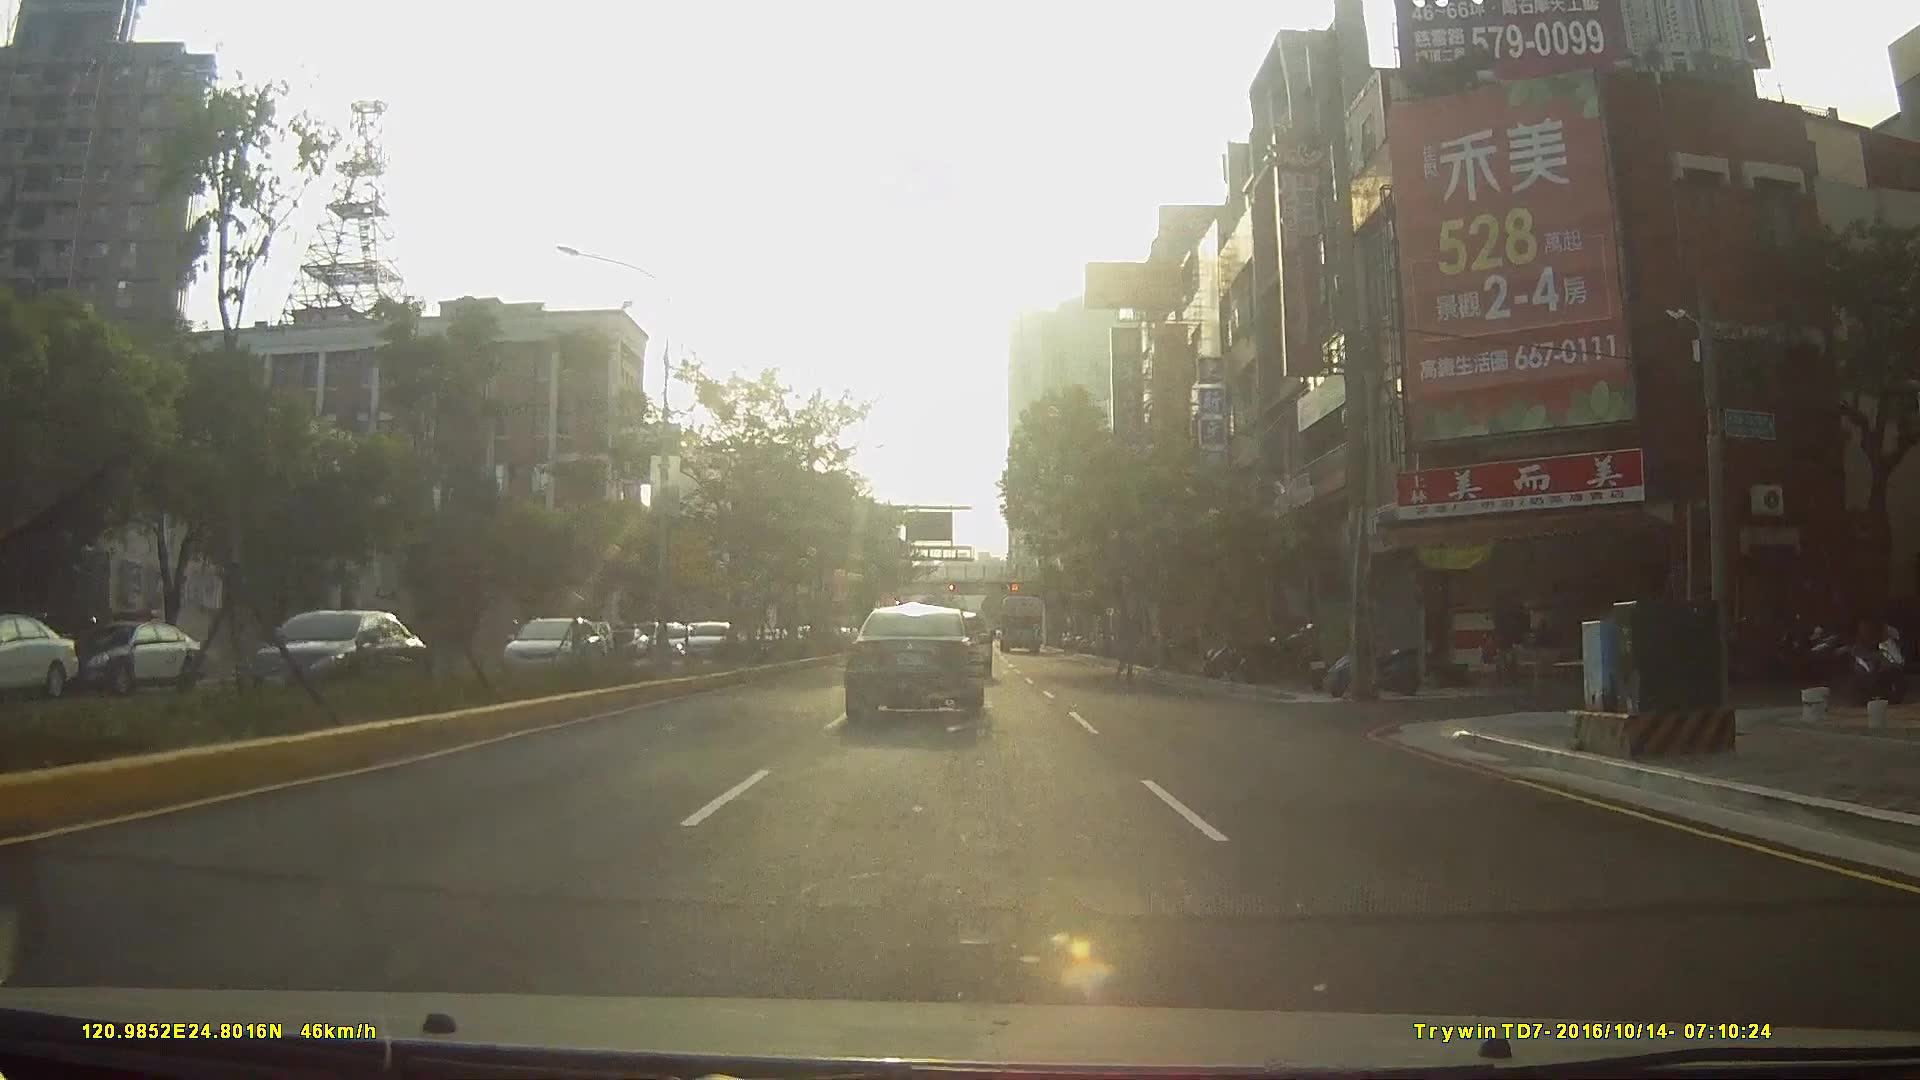pedestrian: (1111, 610, 1146, 684)
vehicle: (238, 607, 427, 701), (841, 603, 986, 727), (51, 618, 202, 696), (490, 608, 605, 697), (289, 615, 383, 684), (0, 615, 67, 703), (669, 619, 743, 666), (998, 594, 1043, 655), (562, 622, 610, 666)
